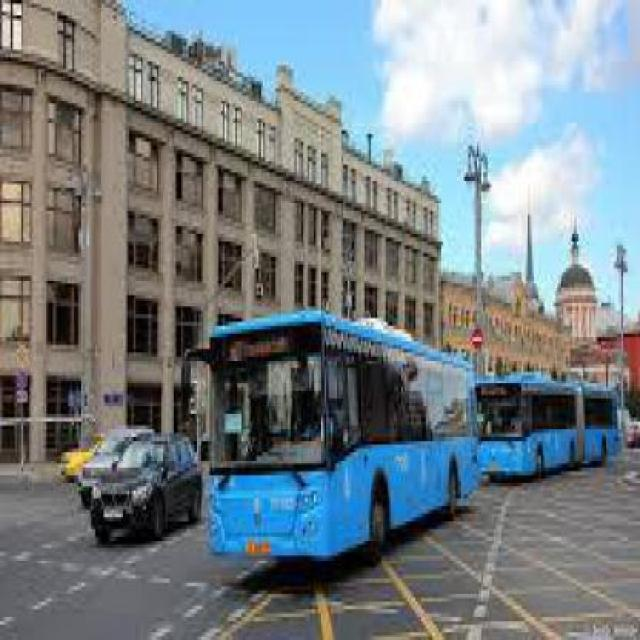bus: (195, 310, 480, 568), (475, 373, 613, 479)
car: (77, 427, 155, 509), (59, 434, 102, 482)
